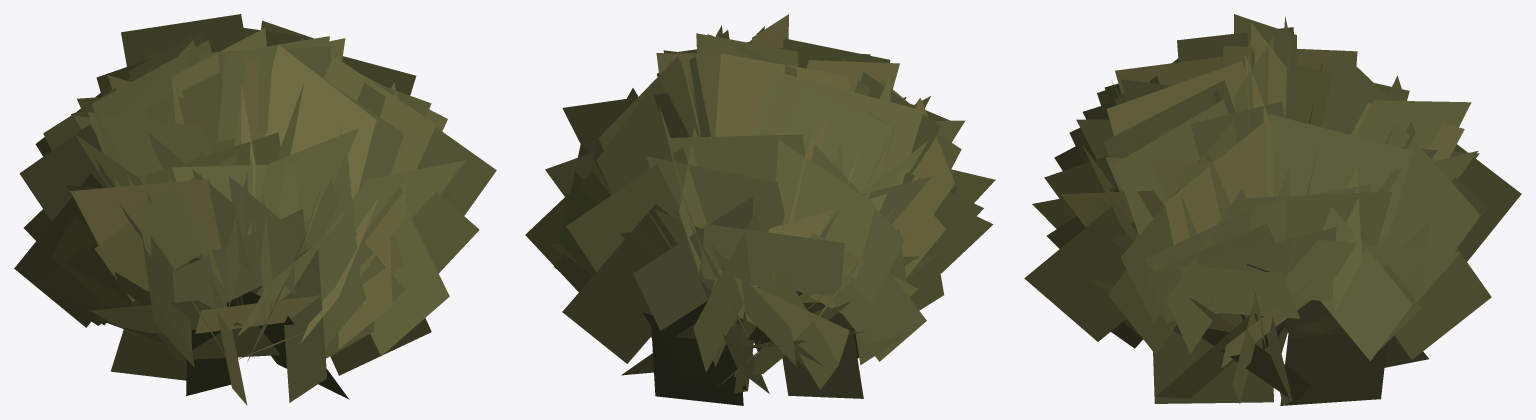
The model's file is shrub.laurel.dry.glb.
3 renders of one model, left to right at view 1: azimuth 30°, elevation 25°; view 2: azimuth 150°, elevation 25°; view 3: azimuth 270°, elevation 25°, orthographic.
Visible parts, largest first — view 1: shrub_laurel_dry; view 2: shrub_laurel_dry; view 3: shrub_laurel_dry.
Boxes of the visible parts, x1=… form: shrub_laurel_dry: x1=14, y1=14, x2=496, y2=405; shrub_laurel_dry: x1=525, y1=14, x2=995, y2=405; shrub_laurel_dry: x1=1024, y1=14, x2=1521, y2=405.
Size of what is drawn, in the model's own units: 2.77 by 2.32 by 3.09.
